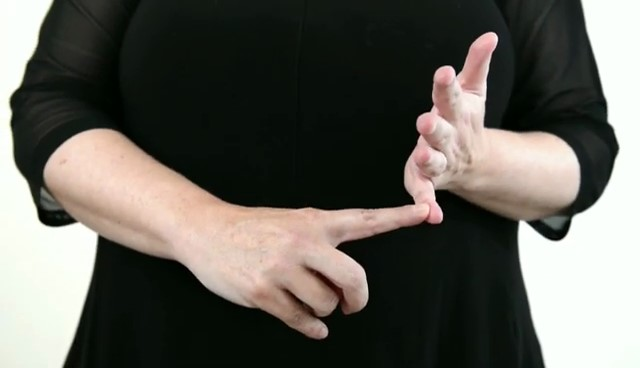U: (209, 20, 500, 346)
